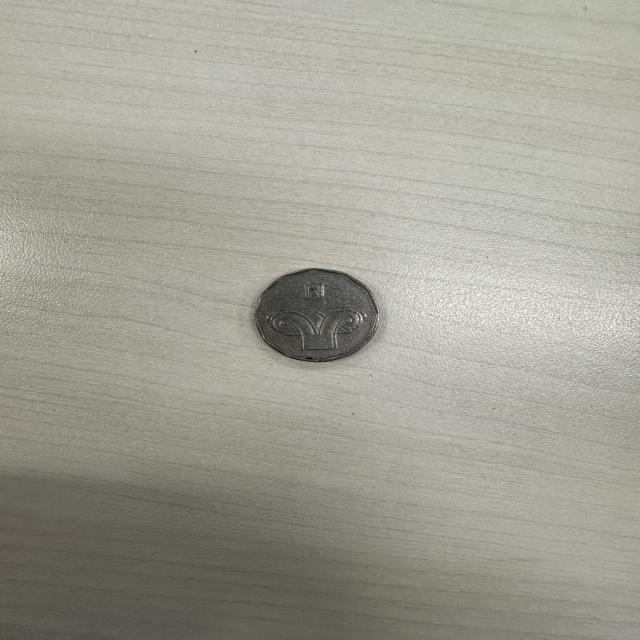5-shekel: (244, 266, 390, 372)
